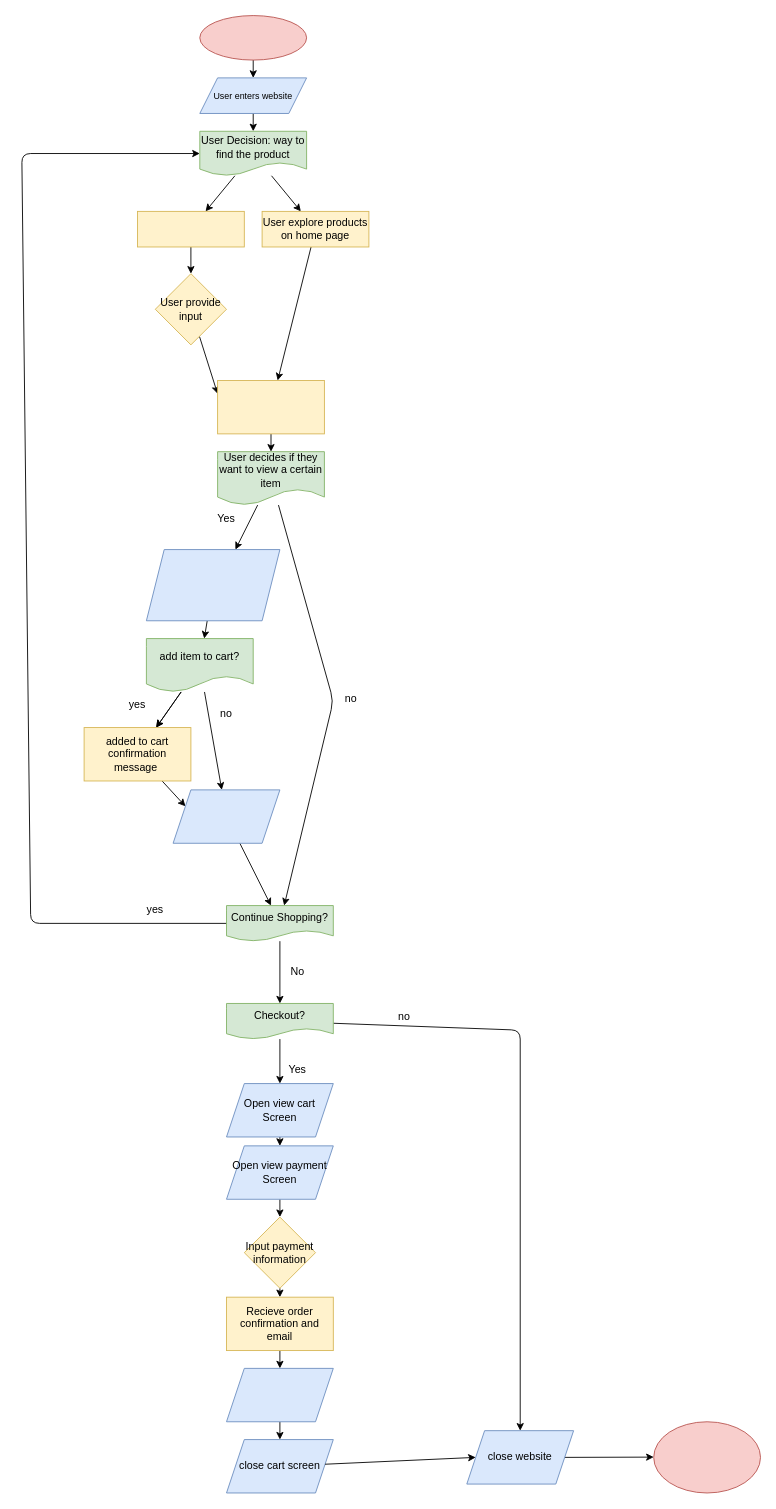
This 776x1509 diagram has some shape labels left out. The shapes that lost their labels are listed below. From the top down, each one's box as (x1, y1, x2, y2) in pixels, then its label:
(199, 15, 307, 60): Start
(137, 210, 244, 247): User Searches for product
(217, 380, 324, 434): User starts looking over the product
(146, 549, 280, 621): User clicks on item and item webpage opens
(172, 789, 280, 843): Close item webpage
(226, 1367, 333, 1422): close payment screen
(653, 1421, 761, 1493): END
